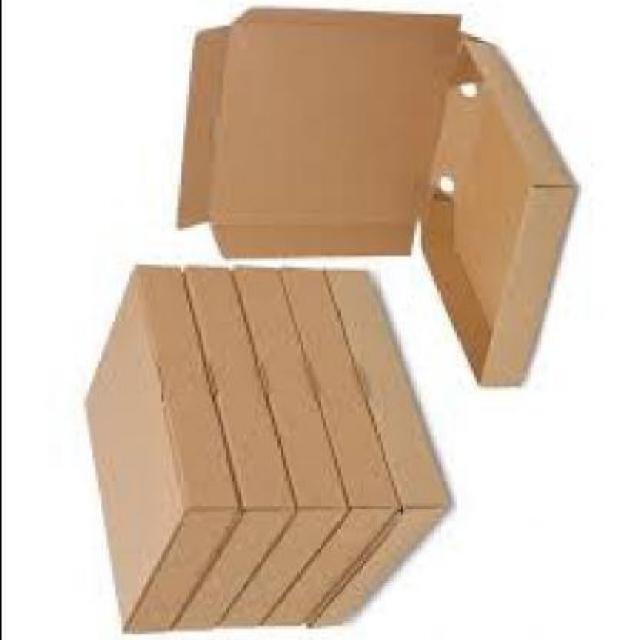box: (172, 2, 640, 400), (80, 254, 458, 640)
